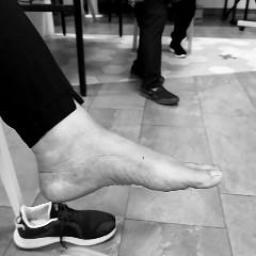Medial View -Left Foot-: (13, 97, 243, 218)
